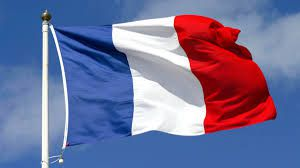French Flag: (52, 14, 280, 145)
